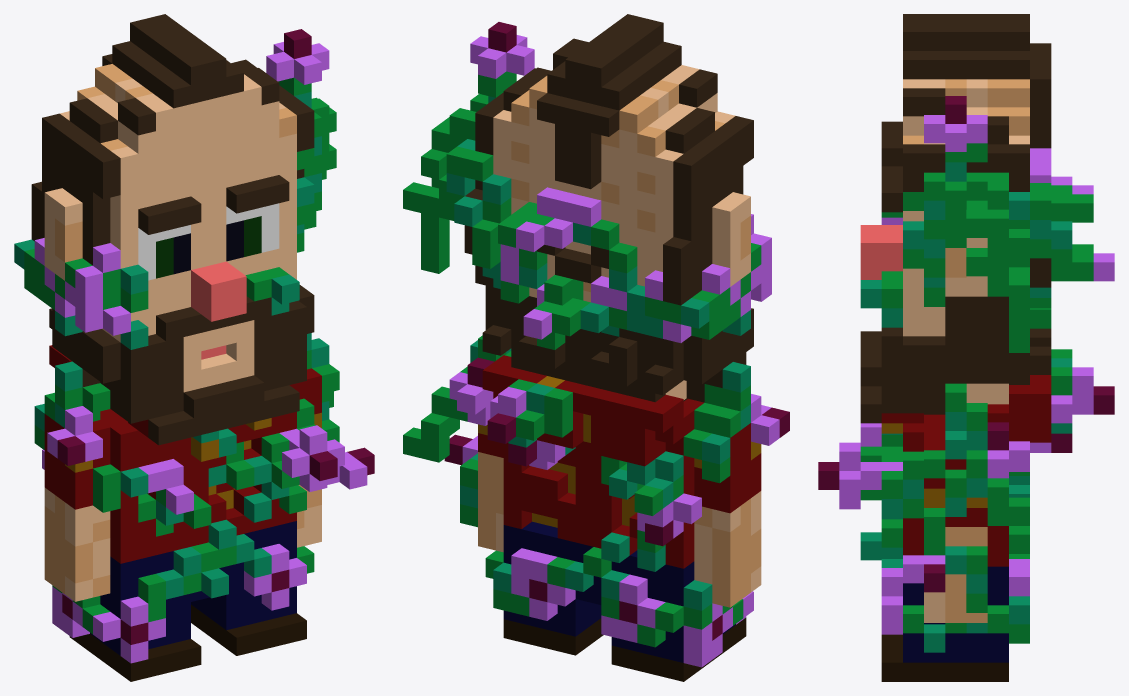
File: Boss_Boss_Bahamon_fase_2.obj
3 views of the same model, side by side, from view 1: azimuth 30°, elevation 25°; view 2: azimuth 150°, elevation 25°; view 3: azimuth 270°, elevation 25° (orthographic). The views are drawn at different scales.
Parts seen in each view (by area): view 1: Boss_Boss_Bahamon_fase_2; view 2: Boss_Boss_Bahamon_fase_2; view 3: Boss_Boss_Bahamon_fase_2.
Boxes of the visible parts, left/top/right/bottom form: Boss_Boss_Bahamon_fase_2: left=14, top=14, right=374, bottom=681; Boss_Boss_Bahamon_fase_2: left=403, top=14, right=789, bottom=681; Boss_Boss_Bahamon_fase_2: left=818, top=14, right=1114, bottom=681.
Size of the model in its own units: 18 by 32 by 14.
Materials: 1 (1 with a texture image).
